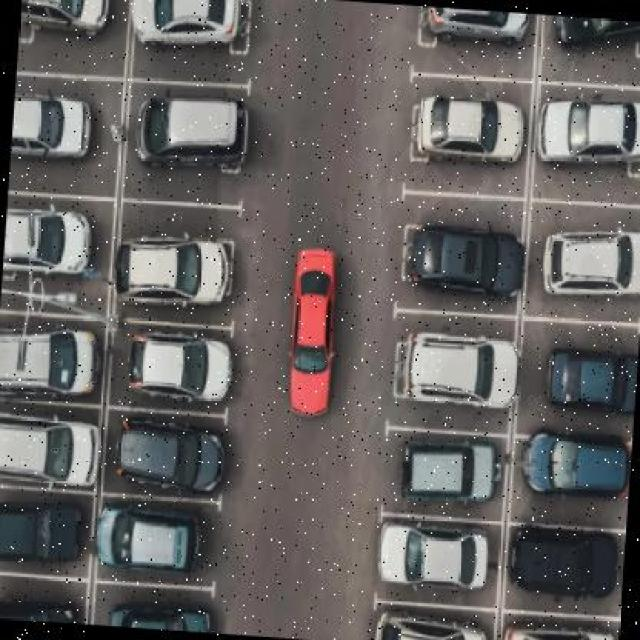Car: (284, 223, 350, 414), (517, 432, 634, 529), (135, 315, 236, 416), (141, 79, 246, 175), (143, 212, 243, 304), (389, 335, 523, 399), (379, 524, 495, 596), (509, 526, 620, 600), (400, 426, 504, 501), (542, 85, 640, 164), (537, 330, 640, 404), (12, 86, 106, 167), (106, 509, 217, 576), (112, 427, 236, 484), (542, 230, 640, 301), (7, 213, 98, 286), (403, 224, 521, 280), (9, 322, 93, 395), (1, 423, 107, 477), (7, 497, 84, 568), (140, 1, 247, 46), (434, 9, 537, 55), (412, 113, 529, 152), (23, 1, 117, 49), (101, 595, 212, 635), (555, 18, 627, 59), (383, 612, 483, 640), (1, 592, 84, 624), (484, 628, 605, 640)
